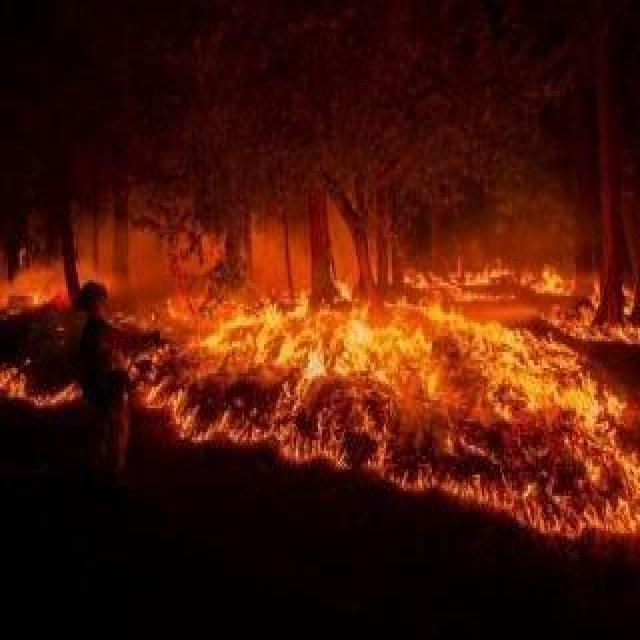fire: (15, 207, 631, 541)
